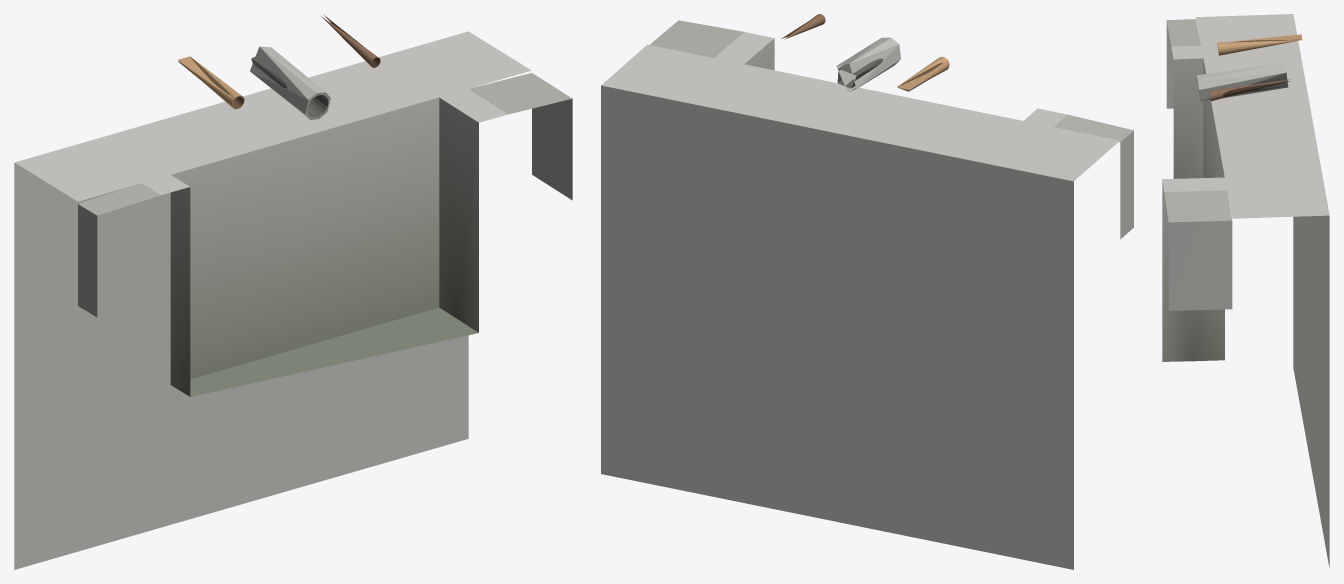
3 views of the same model, side by side, from view 1: azimuth 30°, elevation 25°; view 2: azimuth 150°, elevation 25°; view 3: azimuth 270°, elevation 25° (orthographic). The views are drawn at different scales.
Visible parts, largest first — view 1: VL_27_28; view 2: VL_27_28; view 3: VL_27_28.
Boxes of the visible parts, <box> form: VL_27_28: <box>14,14,572,569</box>; VL_27_28: <box>601,14,1133,569</box>; VL_27_28: <box>1162,14,1329,568</box>.
Bounding box in the file's own units: 7.99 × 7.56 × 2.74.
